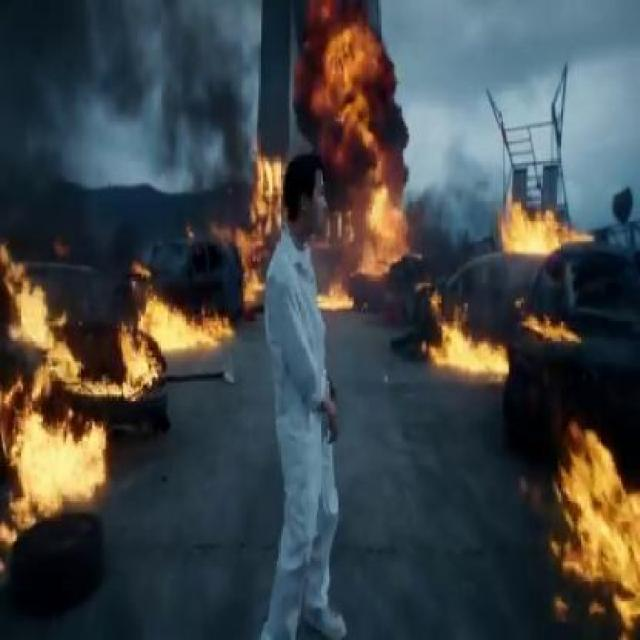fire: (537, 397, 640, 640), (1, 378, 102, 516), (120, 302, 220, 382), (342, 168, 409, 282), (484, 184, 573, 262), (429, 301, 506, 387), (20, 263, 74, 379), (231, 158, 271, 310)
smoke: (100, 2, 256, 226), (1, 1, 97, 248), (279, 2, 413, 165), (414, 133, 488, 267)
